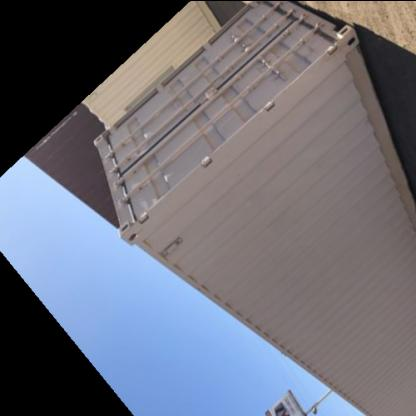Damage: (385, 166, 405, 212)
